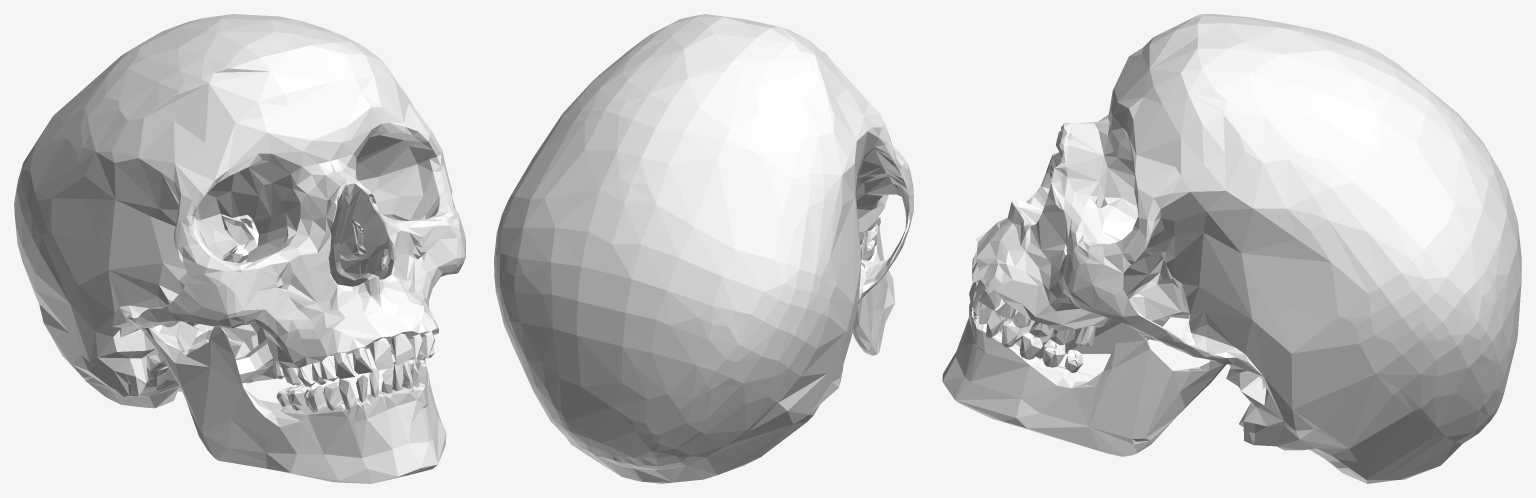
File: Skull.obj
3 renders of one model, left to right at view 1: azimuth 30°, elevation 25°; view 2: azimuth 150°, elevation 25°; view 3: azimuth 270°, elevation 25°, orthographic. The views are drawn at different scales.
Size of the model in its own units: 0.3094 by 0.3683 by 0.452.
1 material, 1 textured.
